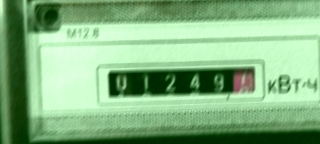0: (114, 71, 127, 91)
1: (139, 71, 149, 90)
2: (163, 72, 176, 92)
4: (188, 71, 199, 90)
7: (236, 67, 248, 86)
9: (211, 71, 224, 93)
screen: (87, 58, 263, 105)
